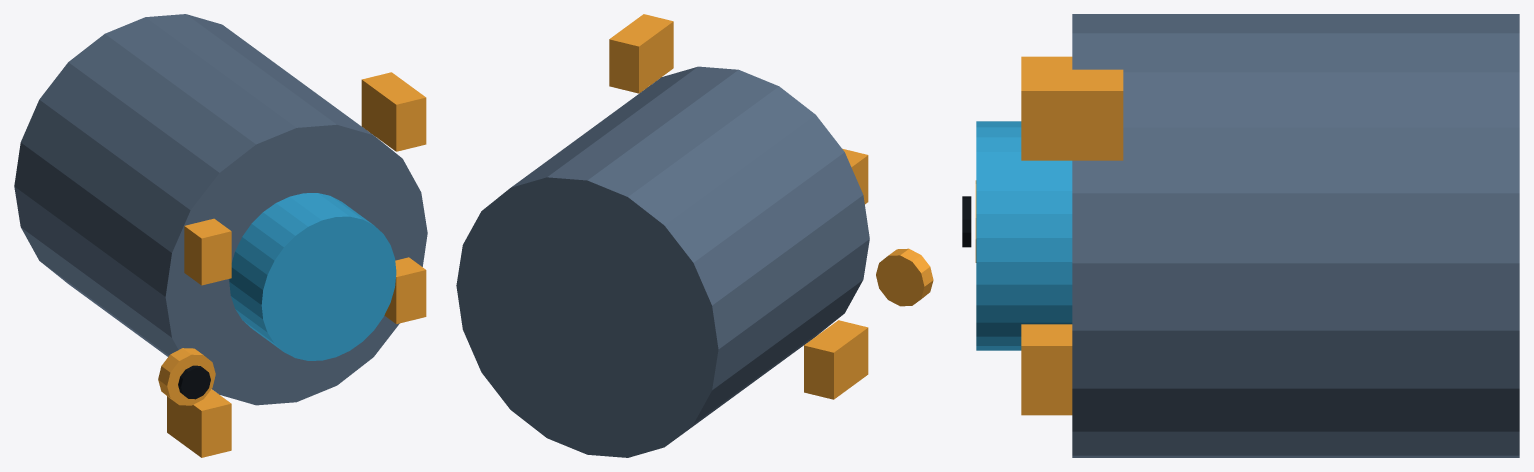
Rendered from 89_L88_EnvironmentalInspectionCamera.fbx.
The picture shows the model from 3 angles, left to right: view 1: azimuth 30°, elevation 25°; view 2: azimuth 150°, elevation 25°; view 3: azimuth 270°, elevation 25°; orthographic projection. The views are drawn at different scales.
Visible parts, largest first — view 1: L87_EnvironmentalInspectionCamera_Part_0000, L87_EnvironmentalInspectionCamera_Part_0001, L87_EnvironmentalInspectionCamera_Part_0002, L87_EnvironmentalInspectionCamera_Part_0003, L87_EnvironmentalInspectionCamera_Part_0004; view 2: L87_EnvironmentalInspectionCamera_Part_0000, L87_EnvironmentalInspectionCamera_Part_0002, L87_EnvironmentalInspectionCamera_Part_0003; view 3: L87_EnvironmentalInspectionCamera_Part_0000, L87_EnvironmentalInspectionCamera_Part_0001, L87_EnvironmentalInspectionCamera_Part_0002.
Boxes of the visible parts, x1,y1,x2,y2 form: L87_EnvironmentalInspectionCamera_Part_0000: (14,14,427,405); L87_EnvironmentalInspectionCamera_Part_0001: (229,193,396,360); L87_EnvironmentalInspectionCamera_Part_0002: (167,72,426,457); L87_EnvironmentalInspectionCamera_Part_0003: (158,348,215,405); L87_EnvironmentalInspectionCamera_Part_0004: (178,365,210,399); L87_EnvironmentalInspectionCamera_Part_0000: (456,66,869,457); L87_EnvironmentalInspectionCamera_Part_0002: (609,14,868,399); L87_EnvironmentalInspectionCamera_Part_0003: (876,248,933,306); L87_EnvironmentalInspectionCamera_Part_0000: (1072,14,1519,457); L87_EnvironmentalInspectionCamera_Part_0001: (976,121,1072,350); L87_EnvironmentalInspectionCamera_Part_0002: (1021,56,1123,415).
Bounding box in the file's own units: 78.3 × 78 × 87.2.
